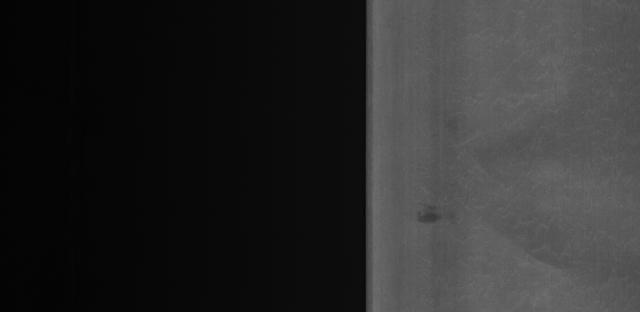oil_spot: (412, 203, 446, 232)
silk_spot: (454, 15, 640, 251)
